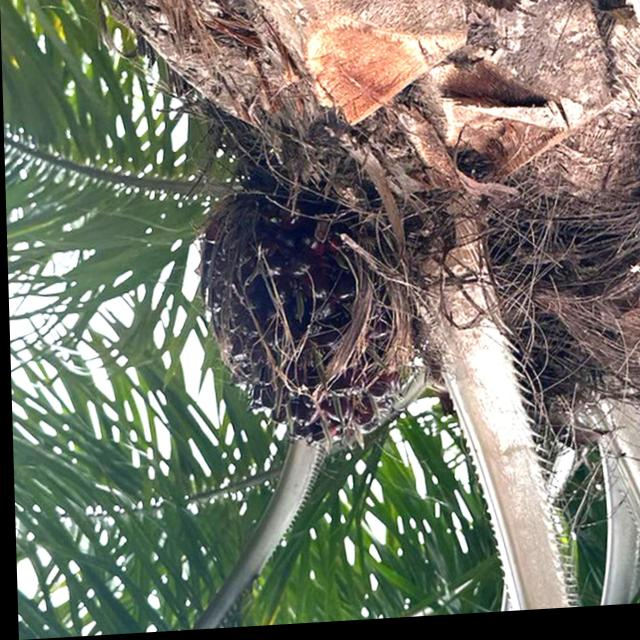ripe: (205, 190, 427, 458)
